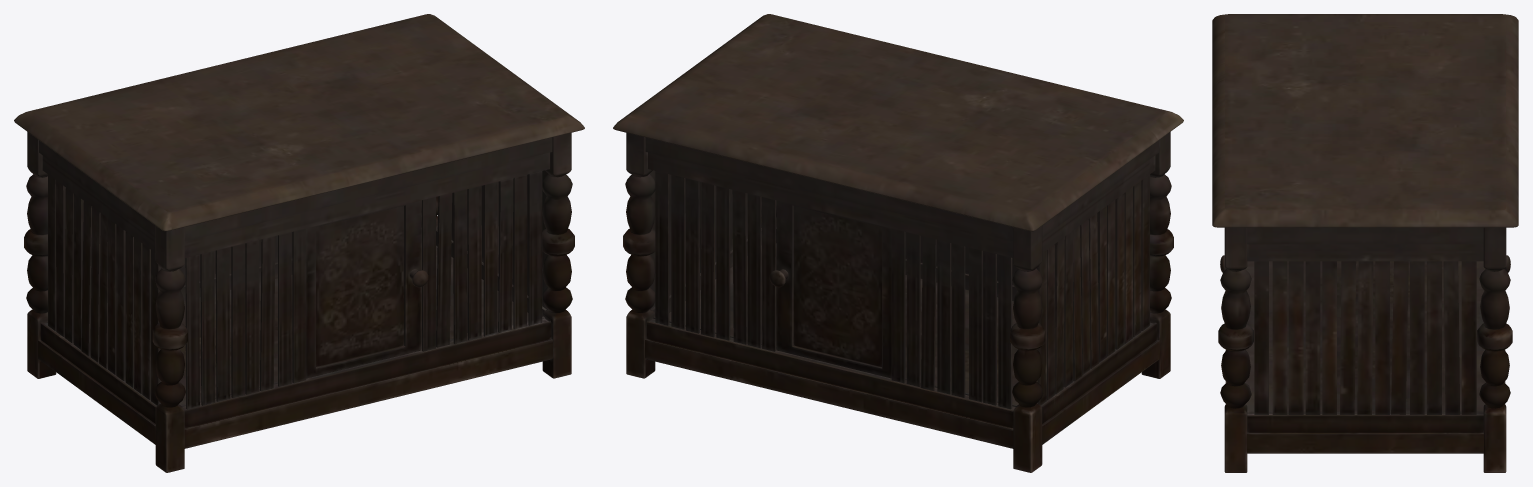
Rendered from gallinera_table.glb.
The picture shows the model from 3 angles, left to right: view 1: azimuth 30°, elevation 25°; view 2: azimuth 150°, elevation 25°; view 3: azimuth 270°, elevation 25°; orthographic projection.
Parts seen in each view (by area): view 1: gallinera_table, gallinera_table_door_a; view 2: gallinera_table, gallinera_table_door_b; view 3: gallinera_table.
Part boxes in pixels (left/top/right/bottom): gallinera_table: left=14, top=14, right=584, bottom=472; gallinera_table_door_a: left=306, top=200, right=428, bottom=378; gallinera_table: left=613, top=14, right=1183, bottom=472; gallinera_table_door_b: left=769, top=200, right=891, bottom=378; gallinera_table: left=1212, top=14, right=1518, bottom=472.
Bounding box in the file's own units: 0.8301 × 0.4878 × 0.5183.
Materials: 1 (1 with a texture image).
